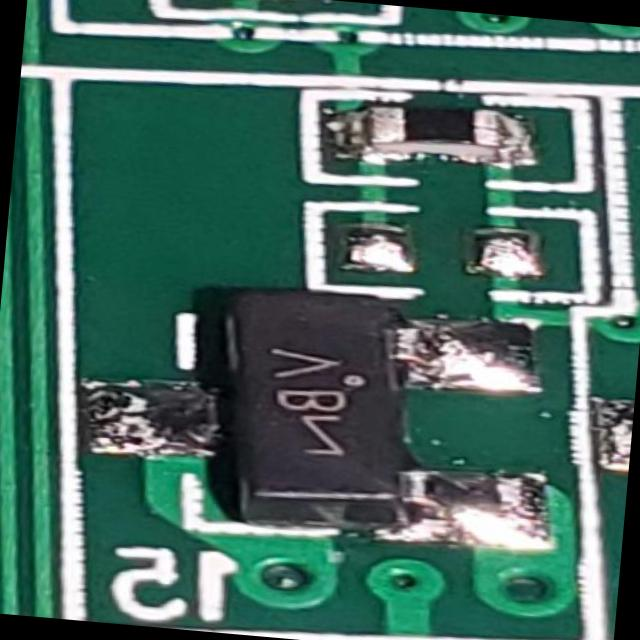resistor: (340, 95, 526, 178)
transistor: (132, 275, 512, 549)
